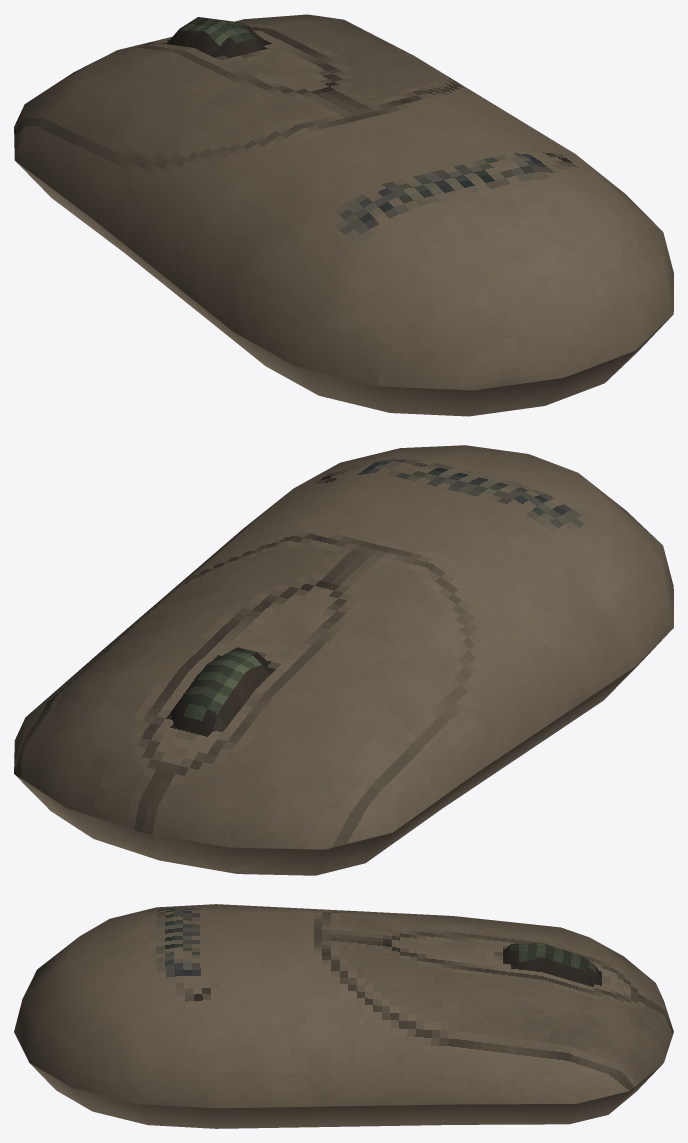
Rendered from pc_mouse_mp_2.glb.
3 views of the same model, one above another, from view 1: azimuth 30°, elevation 25°; view 2: azimuth 150°, elevation 25°; view 3: azimuth 270°, elevation 25° (orthographic). The views are drawn at different scales.
Parts seen in each view (by area): view 1: pc_mouse_mp_2; view 2: pc_mouse_mp_2; view 3: pc_mouse_mp_2.
Part boxes in pixels (x1,y1,x2,y2): pc_mouse_mp_2: (14, 14, 673, 416); pc_mouse_mp_2: (14, 445, 673, 875); pc_mouse_mp_2: (14, 904, 673, 1128).
Bounding box in the file's own units: 0.0809 × 0.0315 × 0.1475.
1 material, 1 textured.
